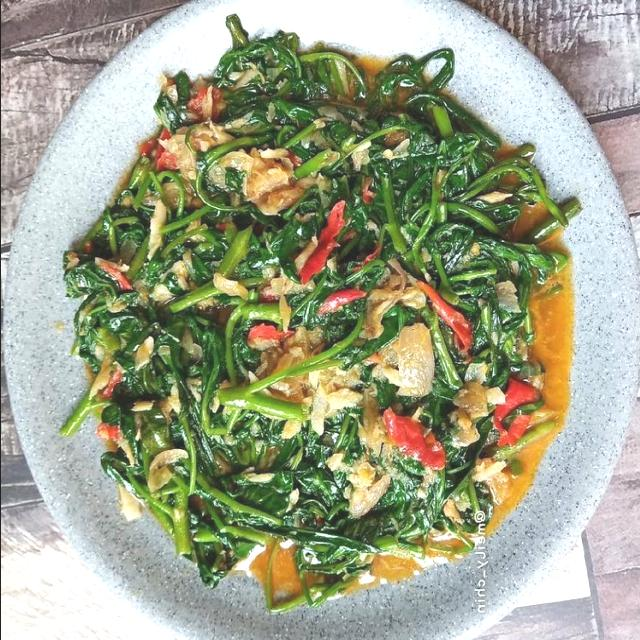tumis kangkung: (62, 13, 580, 613)
